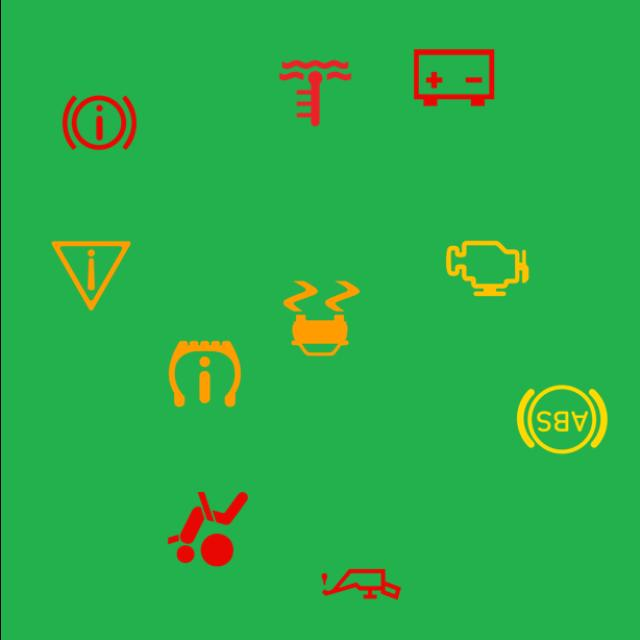Anti Lock Braking System: (512, 370, 611, 469)
Braking System Issue: (49, 73, 148, 172)
Charging System Issue: (403, 28, 502, 127)
Check Engine: (437, 219, 536, 318)
Electronic Stability Problem -ESP-: (271, 269, 370, 368)
Engine Overheating Warning Light: (265, 44, 364, 143)
Low Engine Oil Warning Light: (310, 534, 410, 634)
Low Tire Pressure Warning Light: (154, 324, 253, 423)
Master warning light: (40, 226, 140, 325)
SRS-Airbag: (158, 479, 256, 578)
